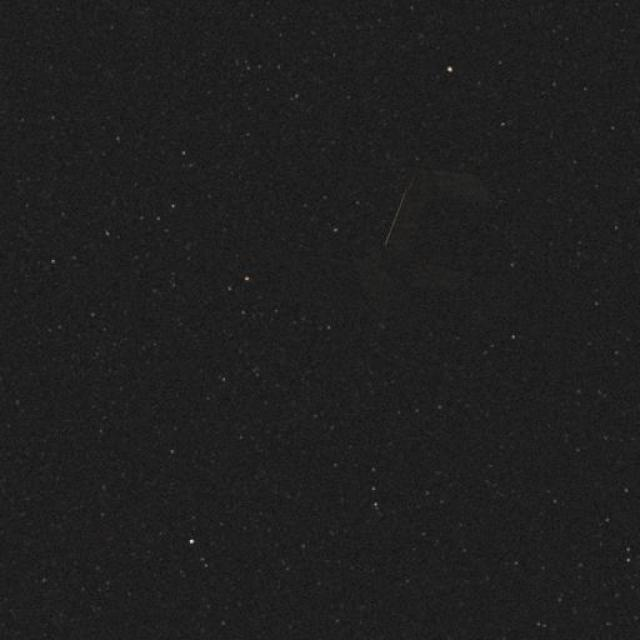soho: (344, 148, 517, 311)
